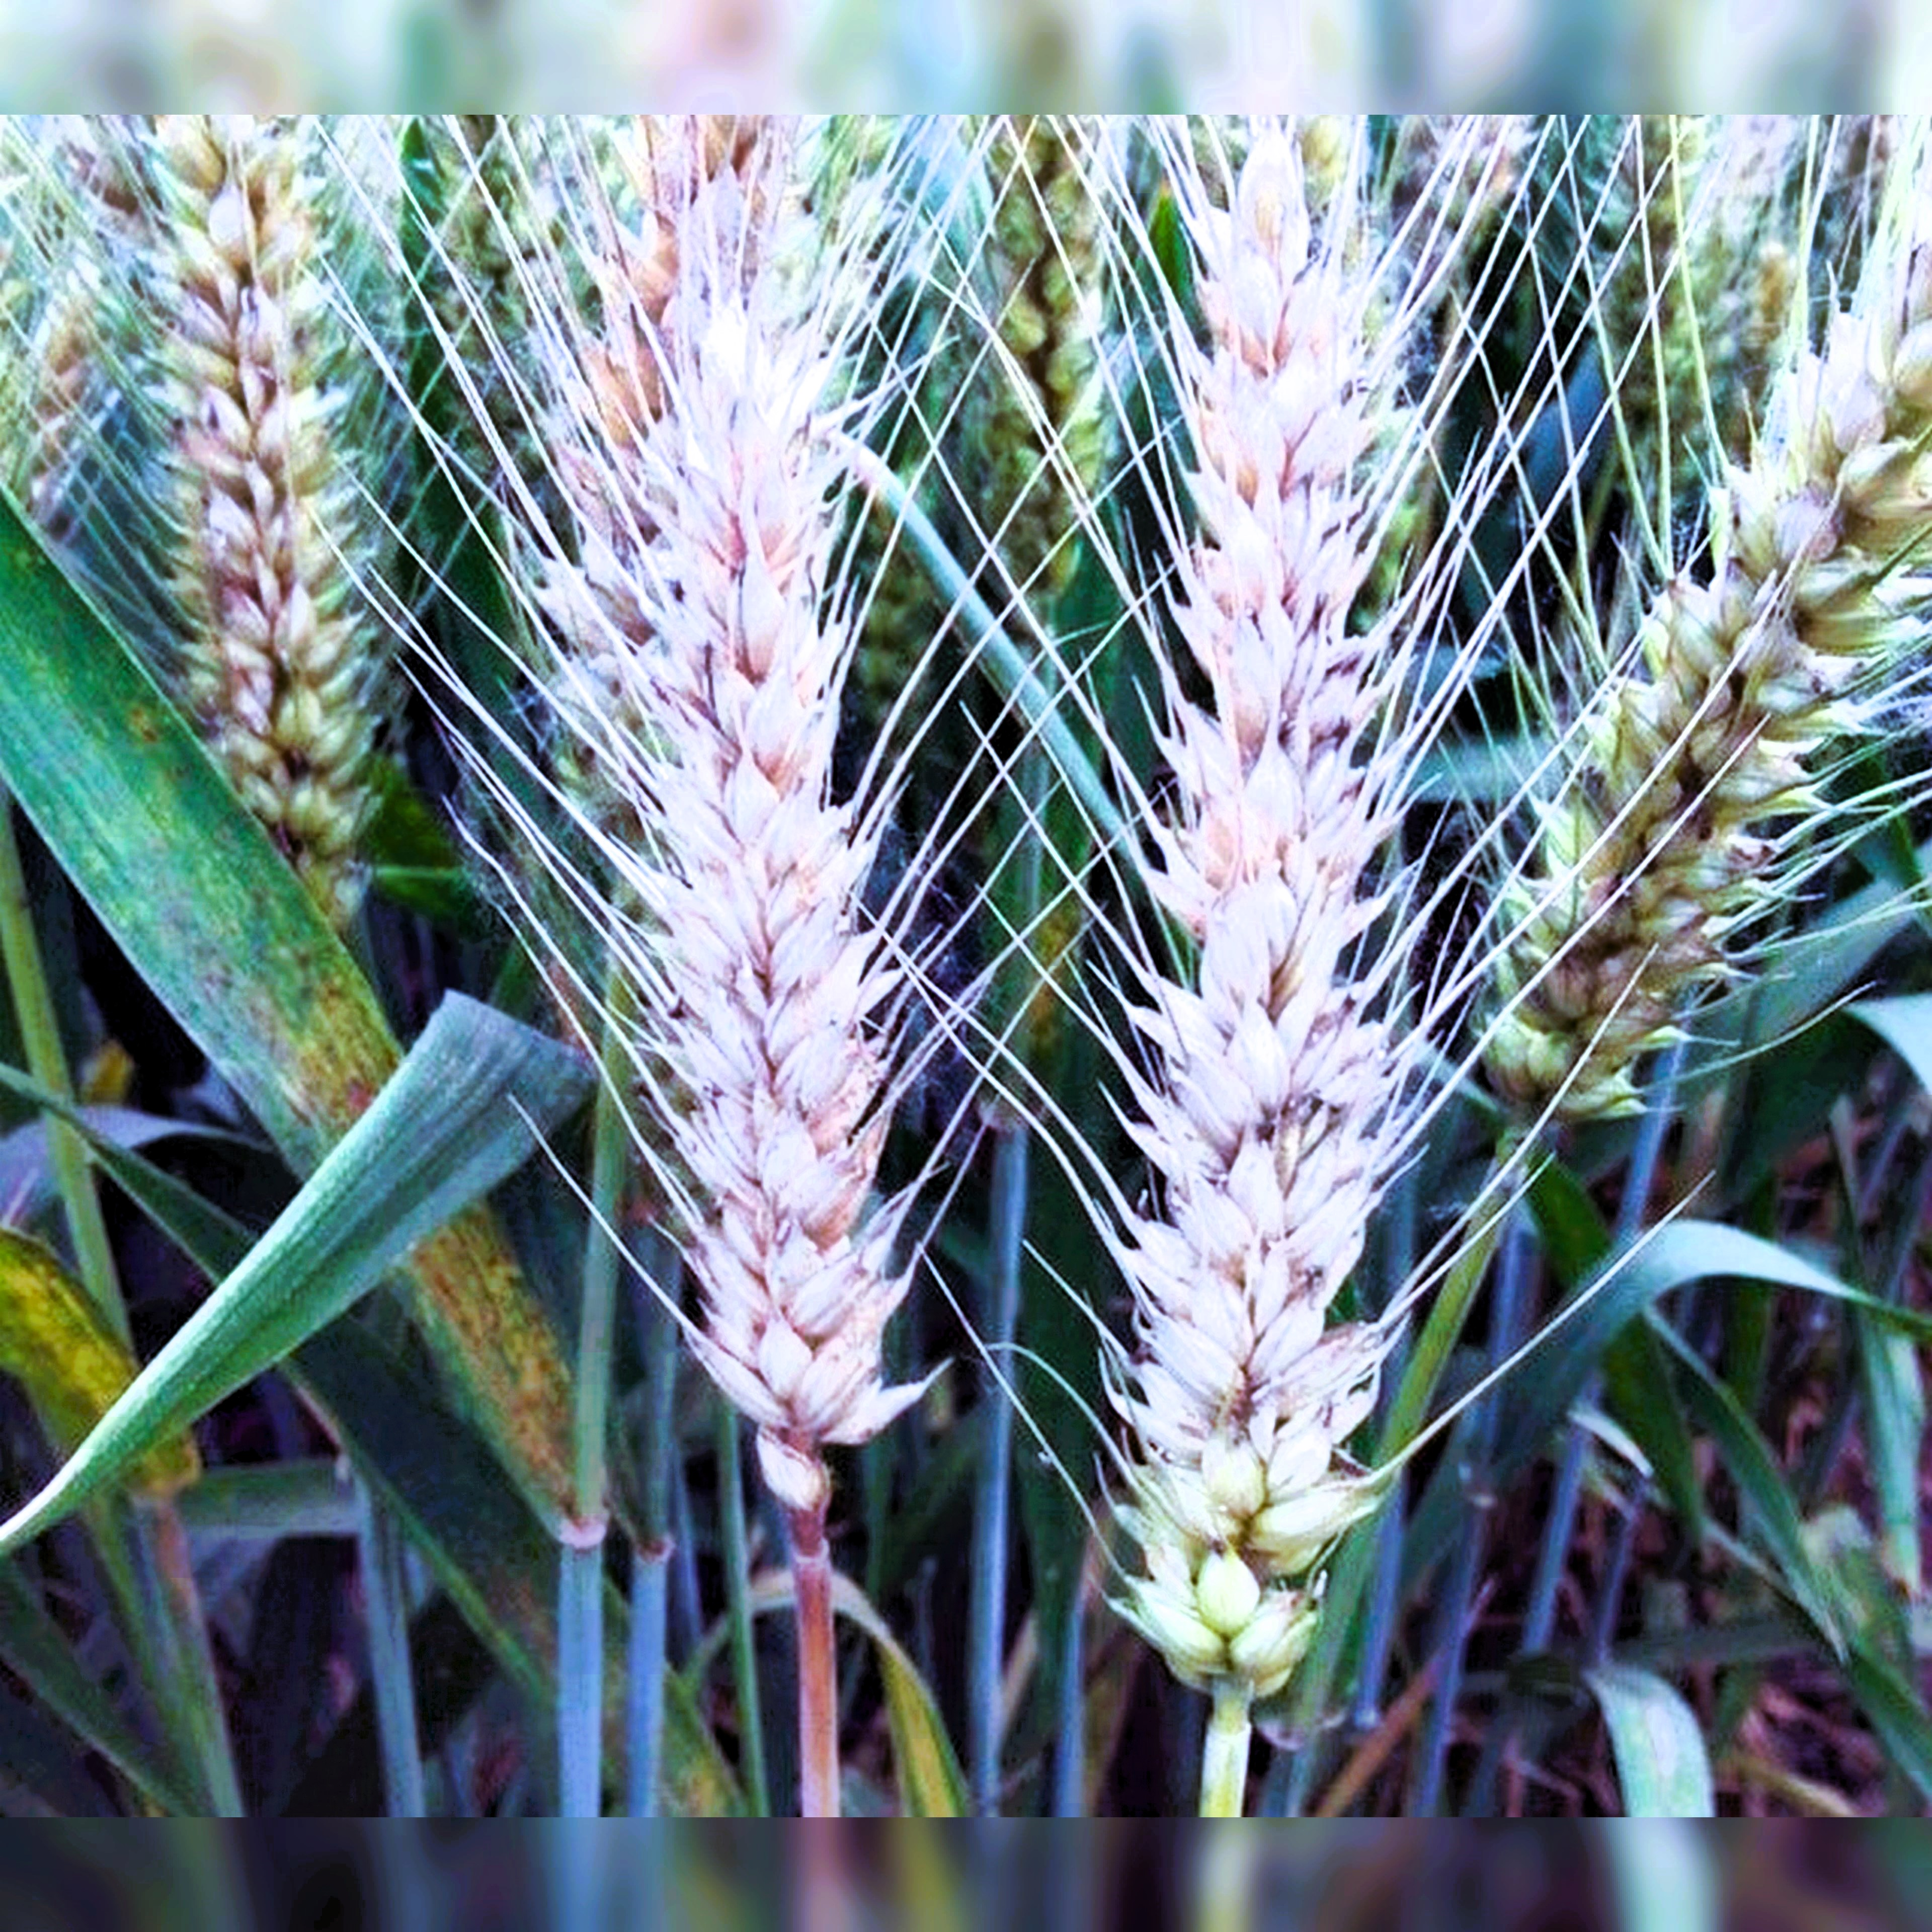Wheat scab: (1053, 280, 1384, 1713)
